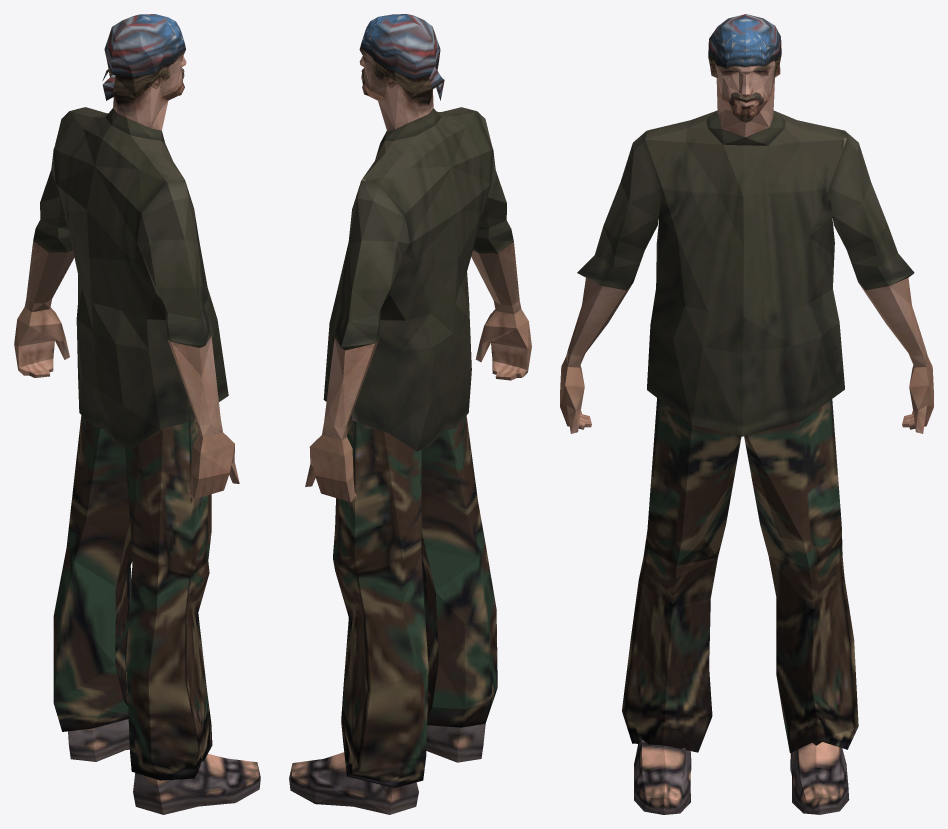
File: swmyhp2.obj
The picture shows the model from 3 angles, left to right: view 1: azimuth 30°, elevation 25°; view 2: azimuth 150°, elevation 25°; view 3: azimuth 270°, elevation 25°; orthographic projection.
Parts seen in each view (by area): view 1: _Pelvis; view 2: _Pelvis; view 3: _Pelvis.
Boxes of the visible parts, left/top/right/bottom form: _Pelvis: left=14, top=14, right=260, bottom=814; _Pelvis: left=289, top=14, right=531, bottom=814; _Pelvis: left=560, top=14, right=933, bottom=814.
Size of the model in its own units: 0.3376 by 1.82 by 0.8079.
1 material, 1 textured.
